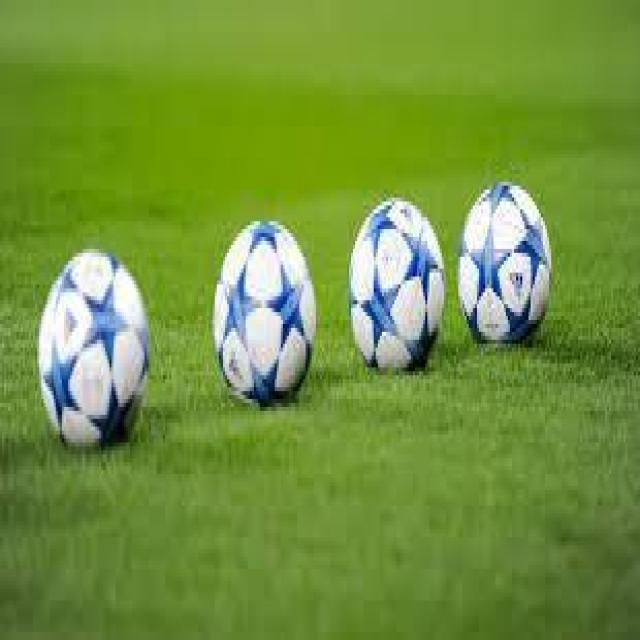Soccer Ball: (39, 245, 151, 462), (212, 217, 314, 403), (458, 182, 552, 344), (353, 202, 444, 368)
